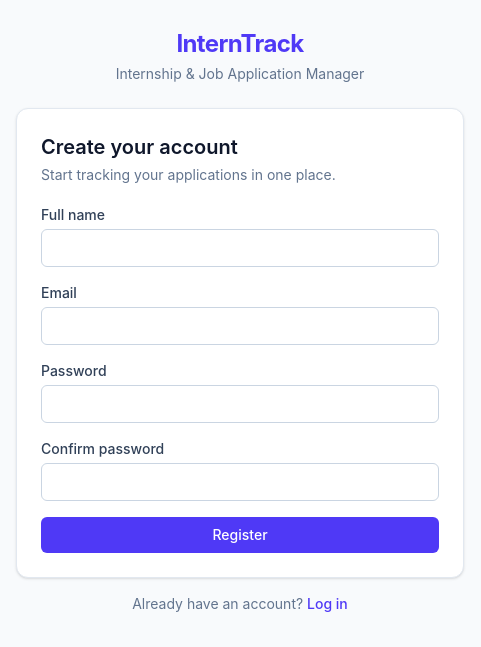
it: Register page › shows a friendly message when the email is already used
Step 1. Type "Abdi" into the field labelled "Full name" → (240, 248), box [41,229,439,267]
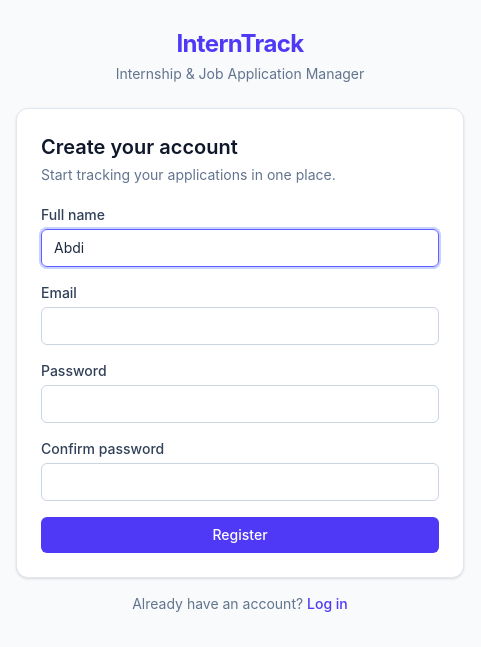
Step 2. Type "a@b.com" into the field labelled "Email" → (240, 326), box [41,307,439,345]
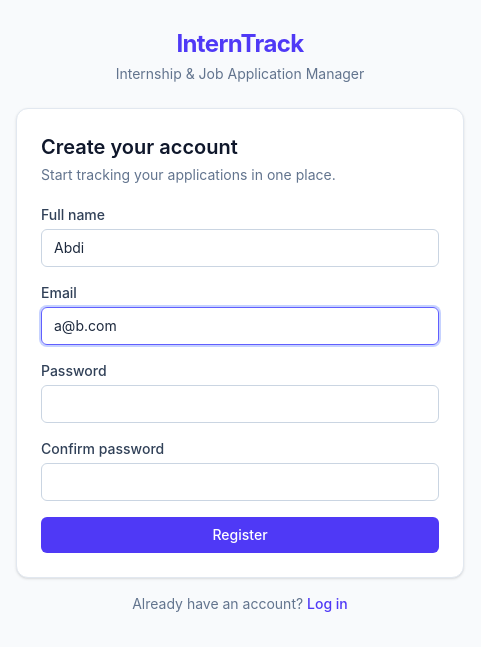
Step 3. Type "secret1" into the password field labelled "Password" → (240, 404), box [41,385,439,423]
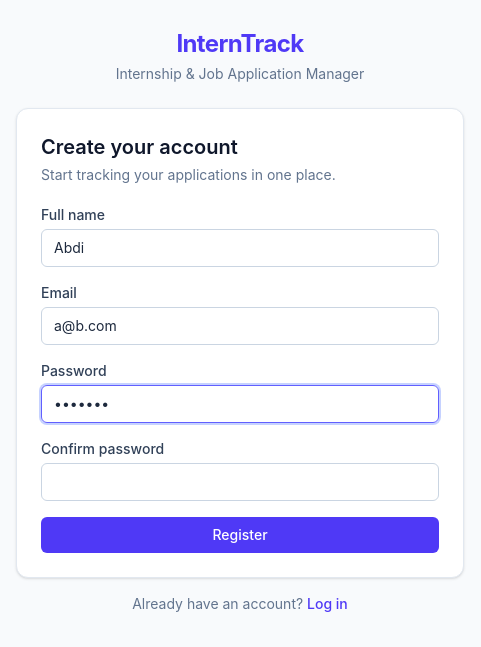
Step 4. Type "secret1" into the password field labelled "Confirm password" → (240, 482), box [41,463,439,501]
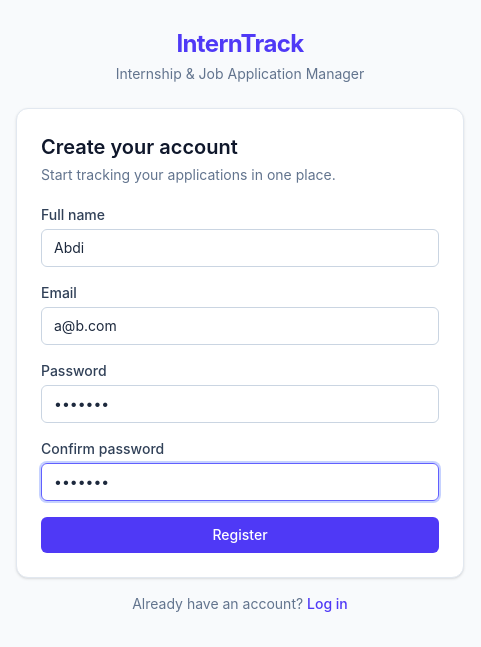
Step 5. Click the button "Register" → (240, 535), box [41,517,439,553]
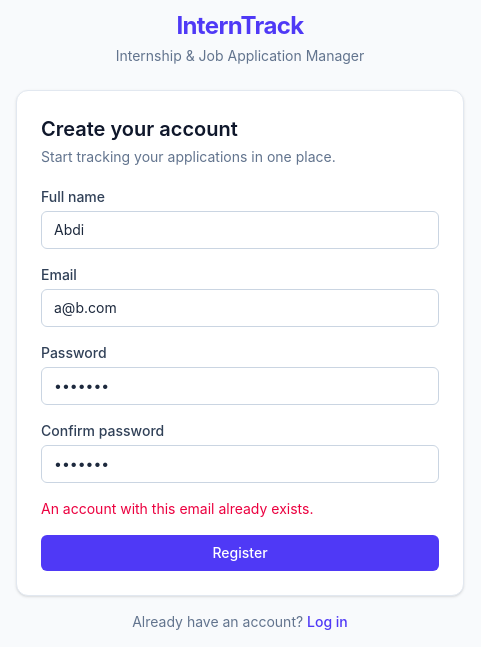
Expected: the message reads "An account with this email already exists.", [41,500,314,517]
